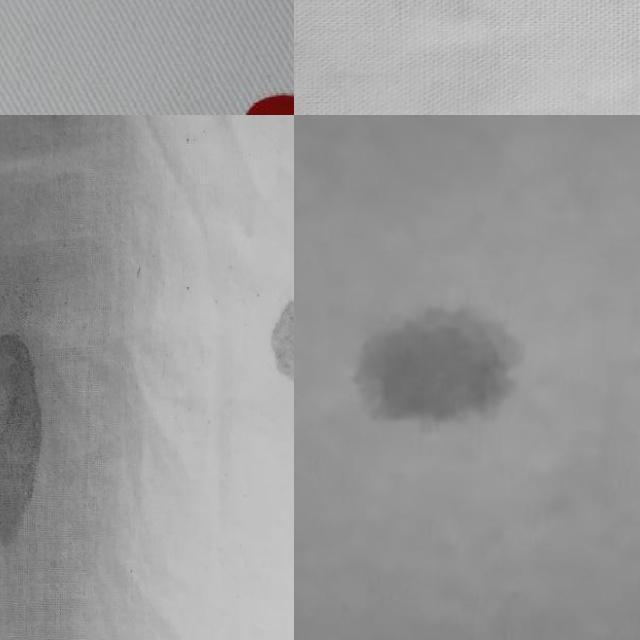Hole: (344, 284, 526, 428), (0, 301, 73, 561)
